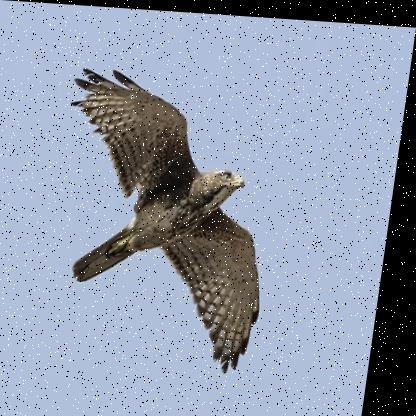Burung: (40, 64, 295, 372)
